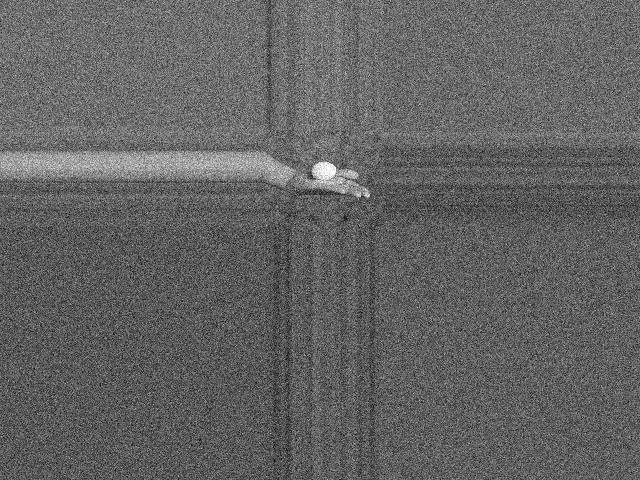egg: (311, 161, 335, 180)
